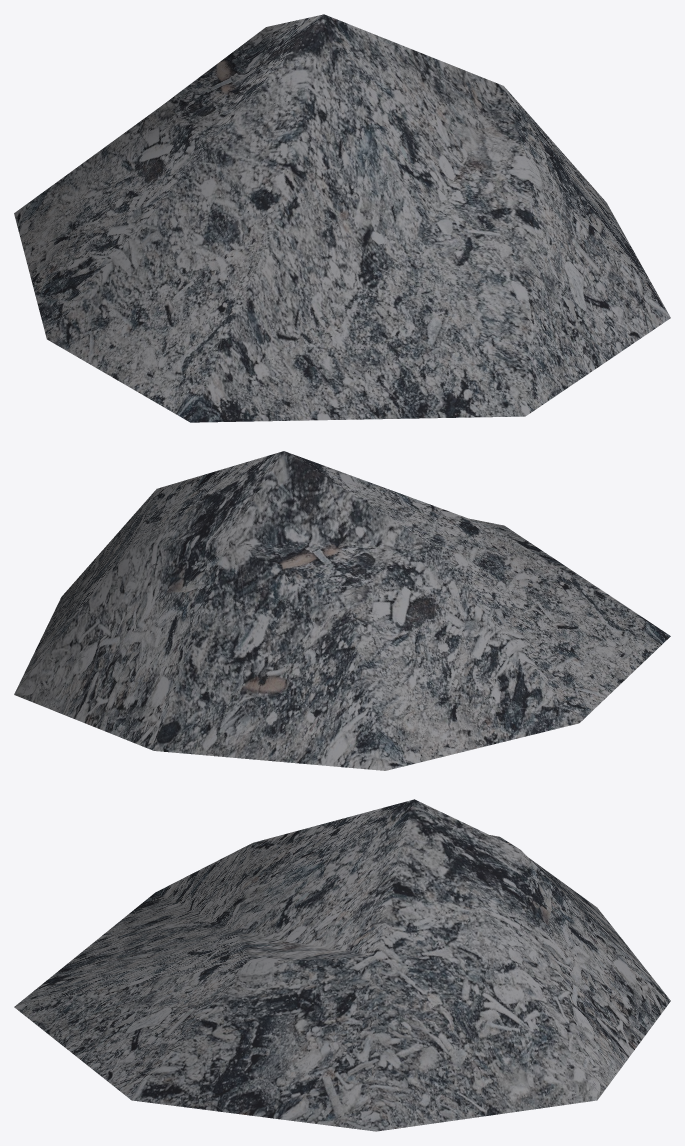
File: Ashes.fbx
3 renders of one model, top to bottom at view 1: azimuth 30°, elevation 25°; view 2: azimuth 150°, elevation 25°; view 3: azimuth 270°, elevation 25°, orthographic. The views are drawn at different scales.
Parts seen in each view (by area): view 1: pCube1; view 2: pCube1; view 3: pCube1.
Boxes of the visible parts, x1=… form: pCube1: x1=14, y1=14, x2=670, y2=422; pCube1: x1=14, y1=451, x2=670, y2=770; pCube1: x1=14, y1=799, x2=670, y2=1131.
Bounding box in the file's own units: 1.32 × 0.5355 × 1.48.
Materials: 1 (1 with a texture image).
